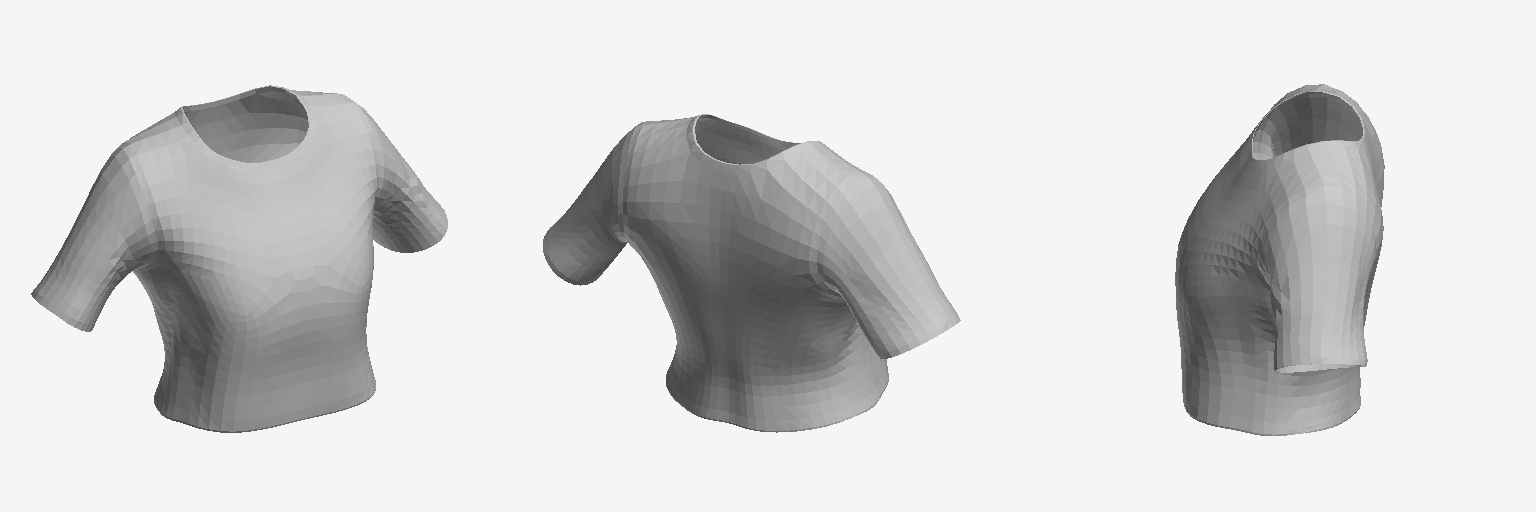
The picture shows the model from 3 angles: view 1: azimuth 30°, elevation 25°; view 2: azimuth 150°, elevation 25°; view 3: azimuth 270°, elevation 25°; orthographic projection.
Visible parts, largest first — view 1: Top_Low_obj; view 2: Top_Low_obj; view 3: Top_Low_obj.
Boxes of the visible parts, box(x1,y1,x2,y2) form: Top_Low_obj: box(31, 85, 447, 432); Top_Low_obj: box(543, 114, 960, 432); Top_Low_obj: box(1175, 84, 1384, 435).
Bounding box in the file's own units: 18.76 × 12.46 × 8.46.